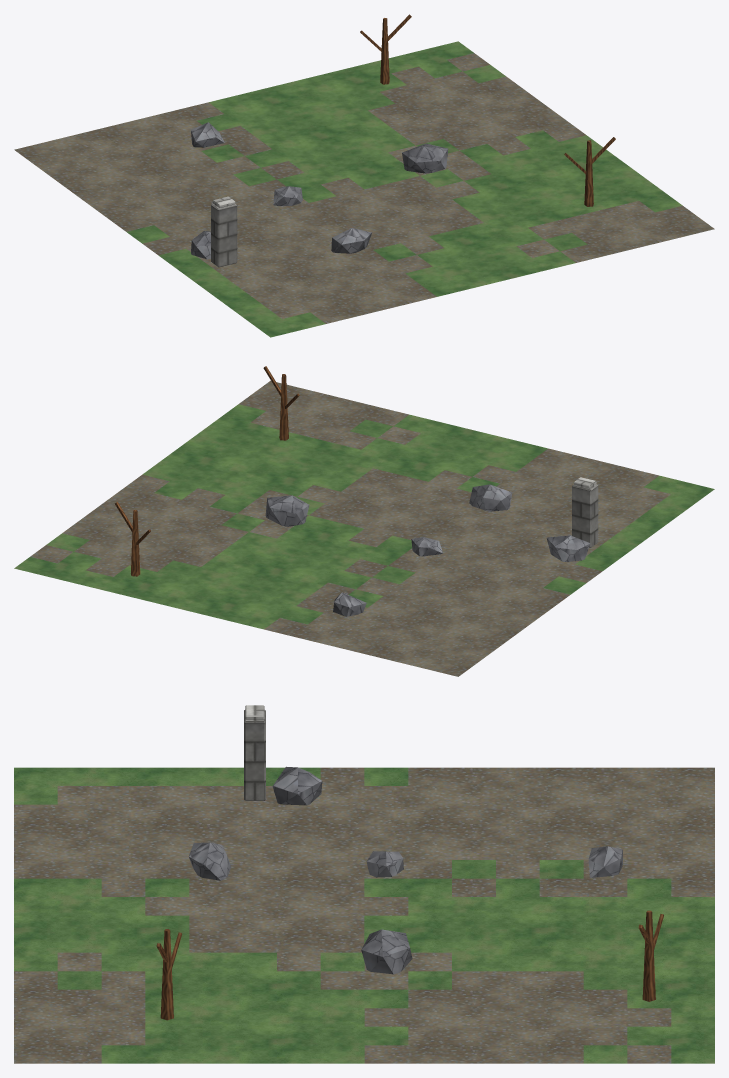
The model's file is chunk_2_20.glb.
3 views of the same model, one above another, from view 1: azimuth 30°, elevation 25°; view 2: azimuth 150°, elevation 25°; view 3: azimuth 270°, elevation 25° (orthographic). The views are drawn at different scales.
Visible parts, largest first — view 1: chunk_2_20; view 2: chunk_2_20; view 3: chunk_2_20.
Part boxes in pixels (left/top/right/bottom): chunk_2_20: left=14, top=14, right=714, bottom=337; chunk_2_20: left=14, top=366, right=714, bottom=676; chunk_2_20: left=14, top=705, right=714, bottom=1063.
Size of the model in its own units: 16 by 2.69 by 16.
6 materials, 6 textured.
